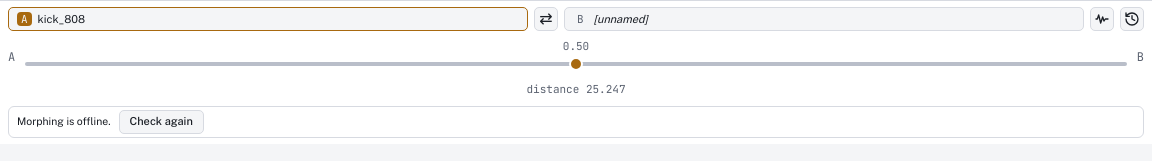
Test: MorphStrip with a whole pair › says so while no inference process answers, and looks again on request
expect the text "kick_808" is shown: met, box [38,13,85,25]
expect the message "Morphing is offline. Check again" is shown: met, box [8,106,1144,138]
Click the button "Check again".
click(161, 122)  # box [119,110,204,134]
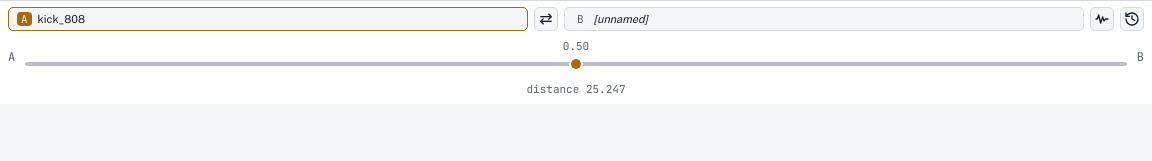
expect the message "Morphing is offline. Check again" is gone: met
